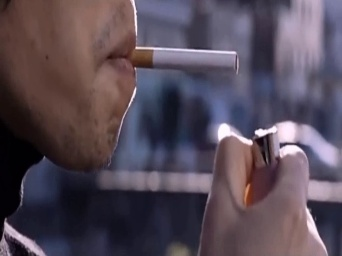smoke: (134, 44, 239, 77)
